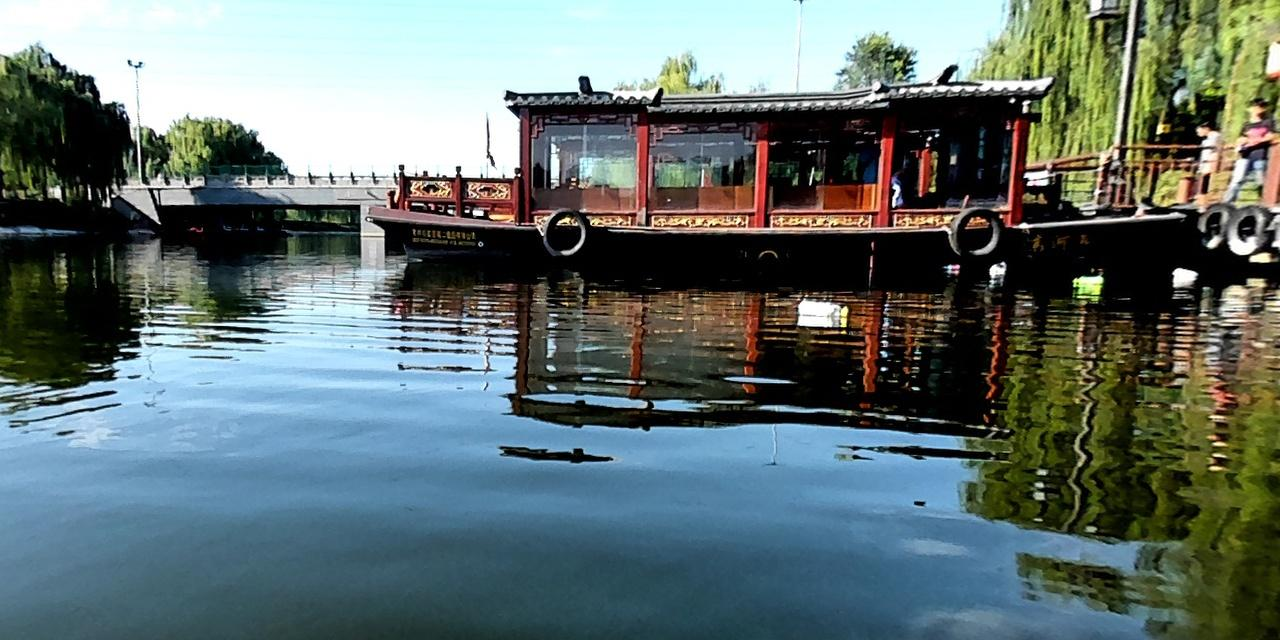bottle: (797, 299, 848, 315), (1072, 274, 1104, 284), (1170, 266, 1199, 277), (989, 261, 1005, 277), (941, 263, 960, 269)
